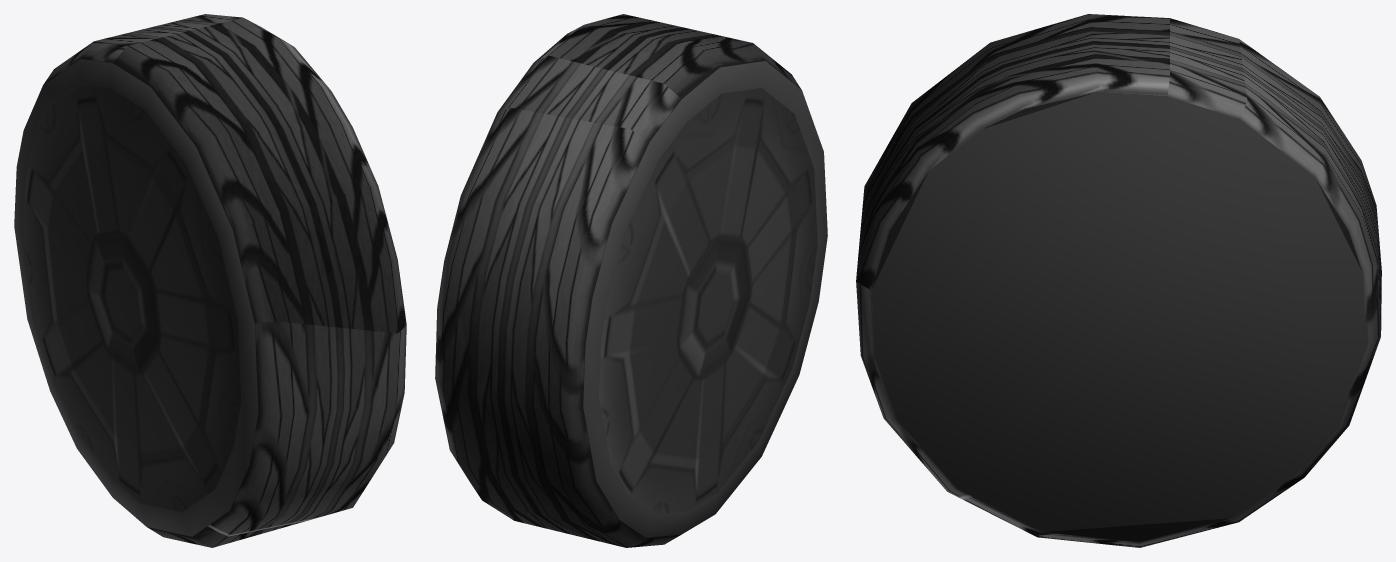
Rendered from wheel5.fbx.
3 renders of one model, left to right at view 1: azimuth 30°, elevation 25°; view 2: azimuth 150°, elevation 25°; view 3: azimuth 270°, elevation 25°, orthographic.
Parts seen in each view (by area): view 1: Cylinder; view 2: Cylinder; view 3: Cylinder.
Part boxes in pixels (x1,y1,x2,y2): Cylinder: [14, 14, 406, 547]; Cylinder: [435, 14, 827, 547]; Cylinder: [856, 14, 1381, 547].
Bounding box in the file's own units: 75.63 × 212 × 212.
1 material, 1 textured.
